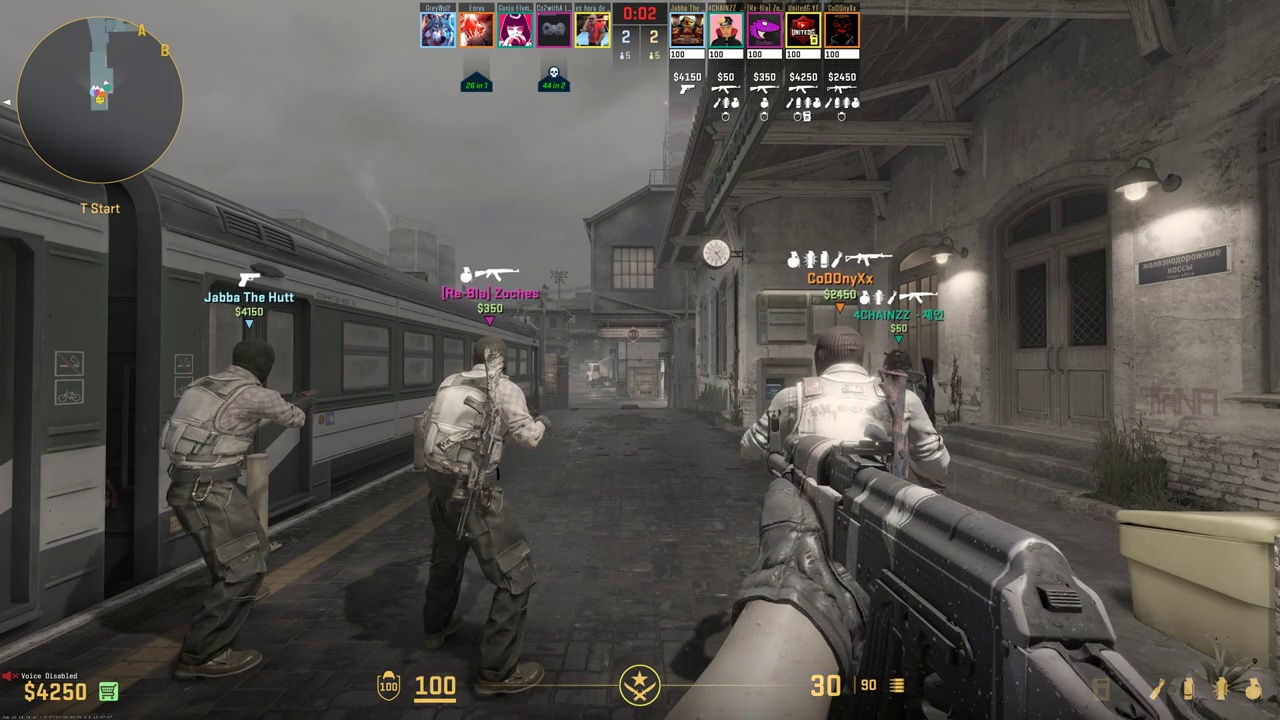Terrorist: (160, 338, 282, 677), (421, 335, 524, 683), (778, 329, 917, 478), (883, 350, 943, 419)
